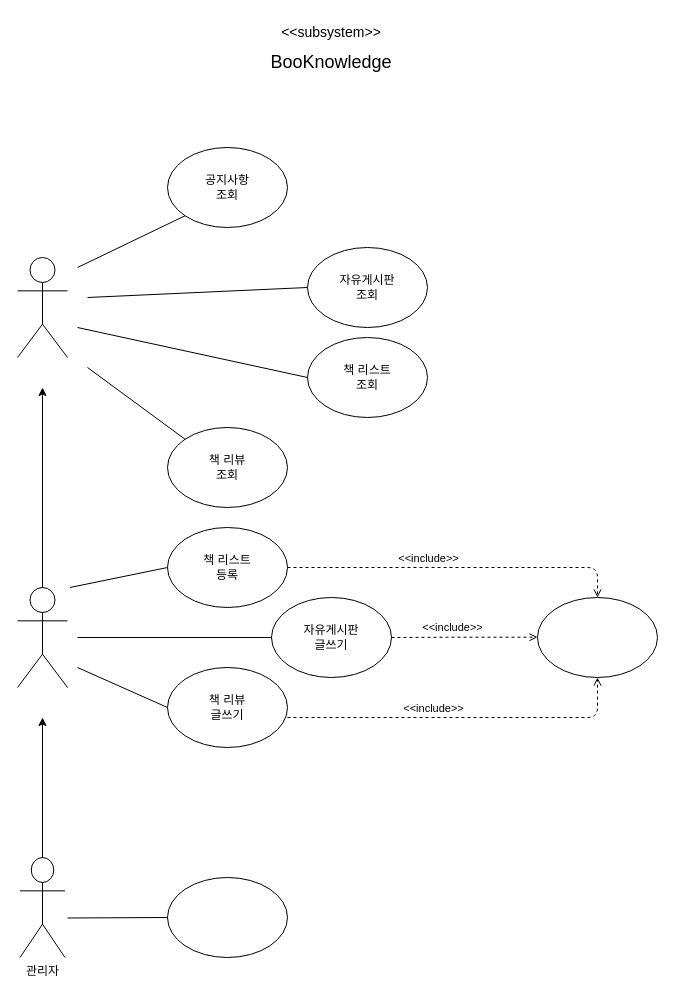
Some shapes in this 675 by 995 pixel diagram are drawn without their labels. The centre of each missing label's shape, as x and y in pixels:
"공지사항 등록" goes at point 227,917.
"로그인" goes at point 597,637.
"비회원" goes at point 42,307.
"회원" goes at point 42,637.
